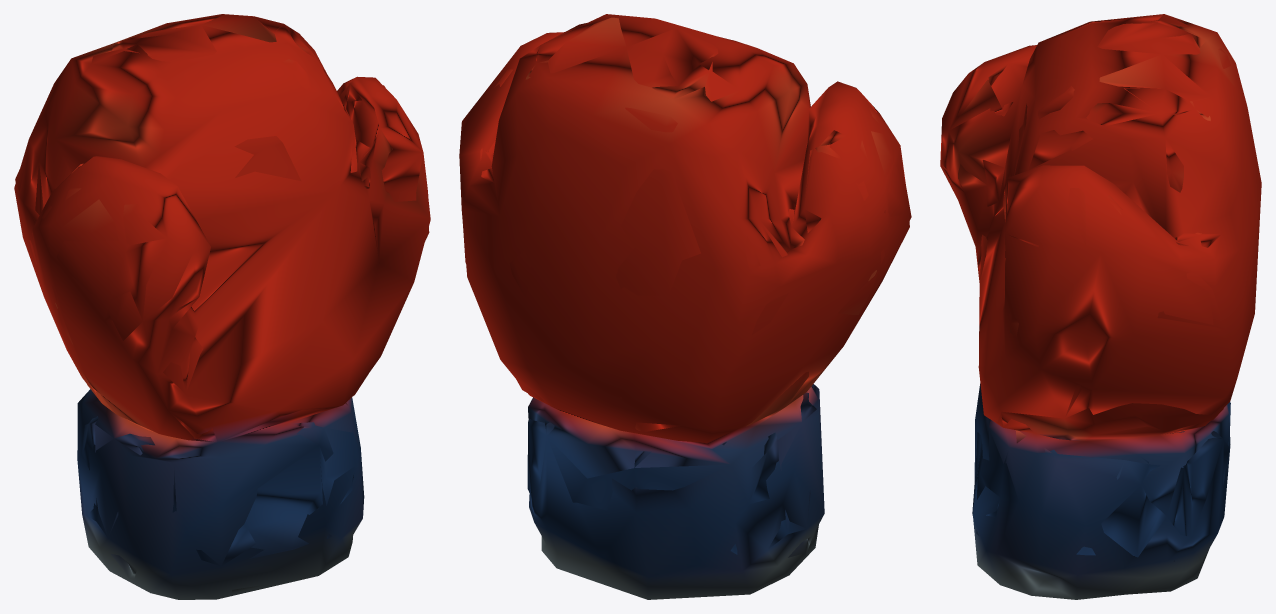
File: gen3d-boxing-glove-lod1.glb
The picture shows the model from 3 angles, left to right: view 1: azimuth 30°, elevation 25°; view 2: azimuth 150°, elevation 25°; view 3: azimuth 270°, elevation 25°; orthographic projection. The views are drawn at different scales.
Parts seen in each view (by area): view 1: part_0; view 2: part_0; view 3: part_0.
Part boxes in pixels (x1,y1,x2,y2): part_0: (14, 14, 430, 599); part_0: (459, 14, 911, 599); part_0: (940, 14, 1261, 599).
Bounding box in the file's own units: 0.7795 × 0.9968 × 0.5797.
